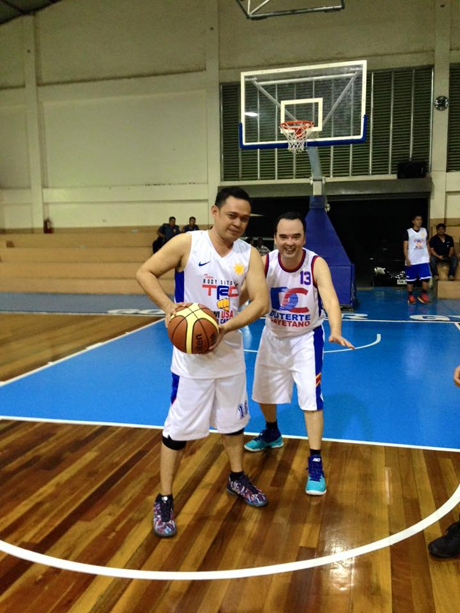ball: (165, 304, 219, 357)
basket: (282, 121, 309, 150)
player: (142, 189, 278, 535), (242, 216, 342, 491)
